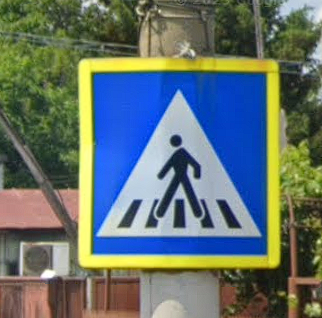trecere_pietoni: (74, 55, 284, 271)
